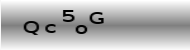5: (60, 8, 76, 23)
G: (87, 11, 106, 25)
Q: (23, 20, 39, 35)
c: (43, 23, 57, 34)
o: (73, 24, 88, 35)
